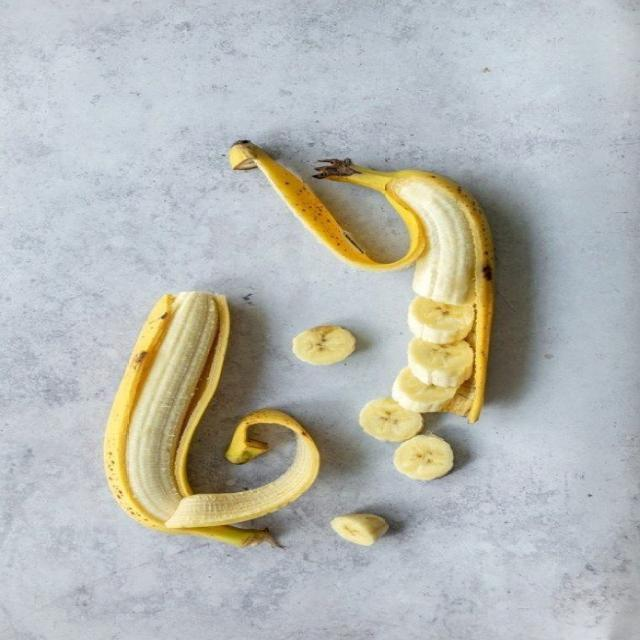banana: (230, 141, 494, 422), (106, 292, 319, 546), (389, 175, 474, 304), (409, 338, 473, 387), (409, 296, 474, 344), (392, 367, 456, 413), (394, 434, 454, 480), (359, 398, 423, 441), (293, 326, 355, 365), (331, 514, 388, 545)
